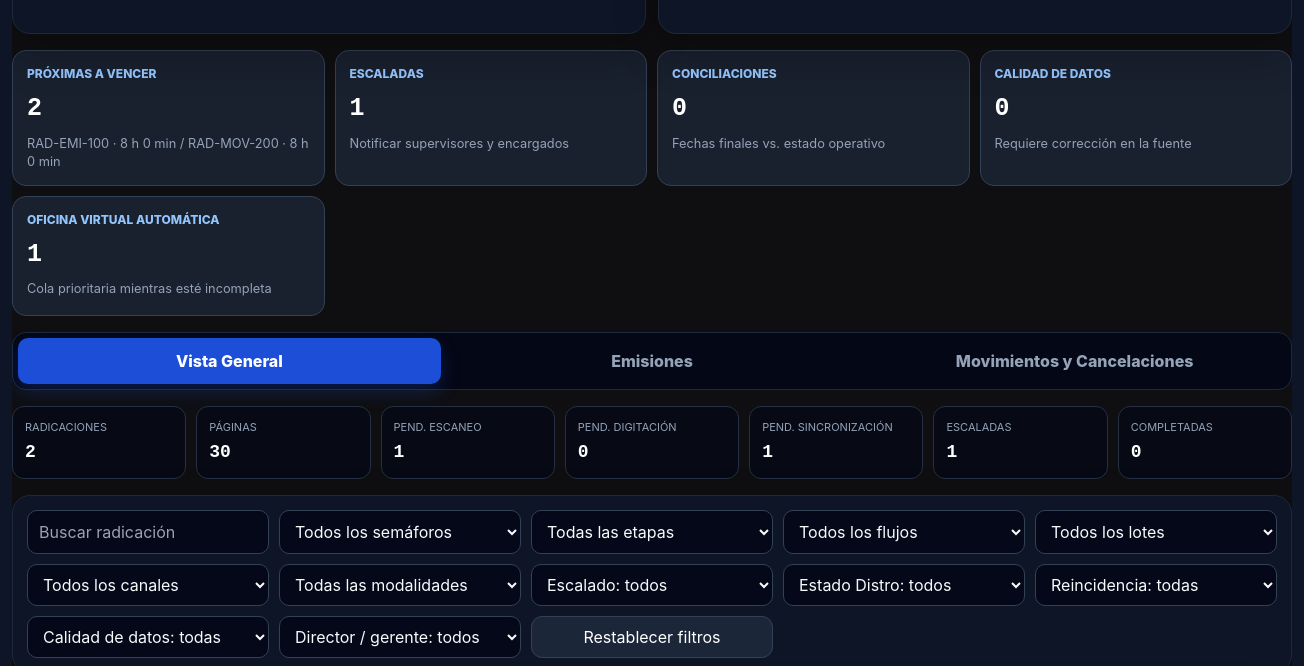
Test: EndToEndView - Pestaña Vista General y Segmentación Reactiva › filtra reactivamente métricas analíticas y tabla al seleccionar la pestaña "Movimientos y Cancelaciones"
This screenshot has width=1304, height=666.
(page scrolled)
Note: Cambiar a pestaña Movimientos
Click the tab "Movimientos y Cancelaciones" at (1075, 360), box [863,338,1286,384]
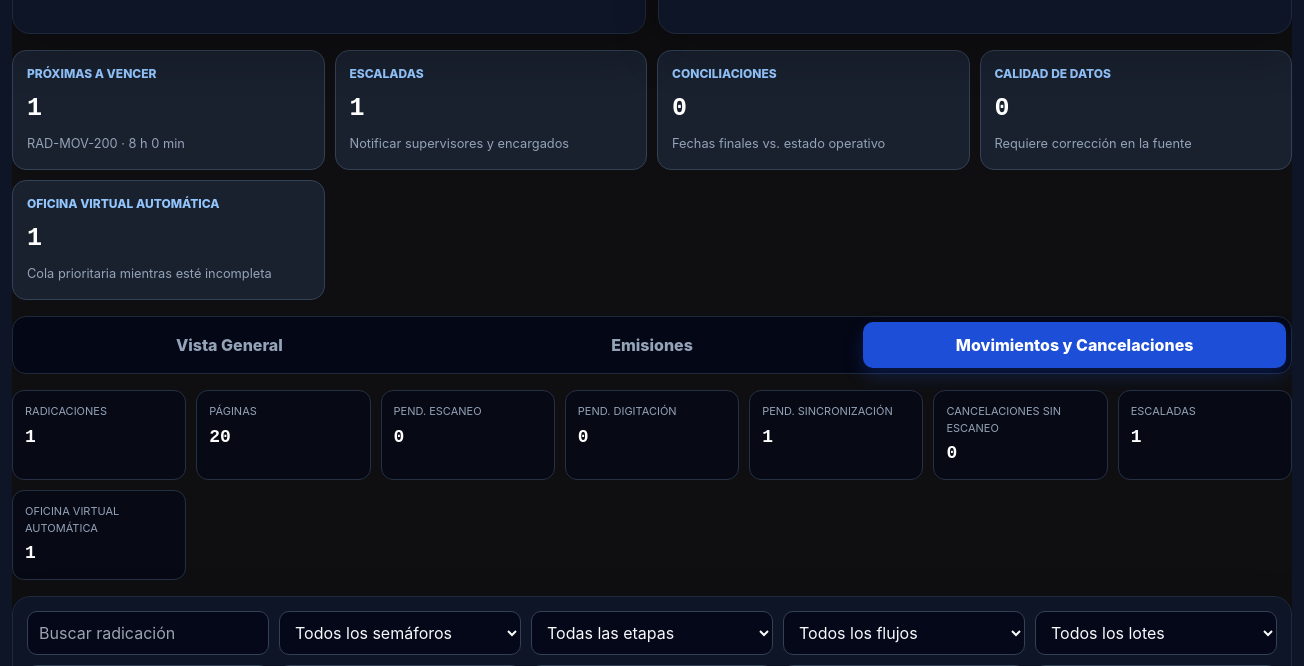
Expected: the text "RAD-MOV-200" is shown, [27,136,185,151]
Expected: the text "RAD-EMI-100" is gone
